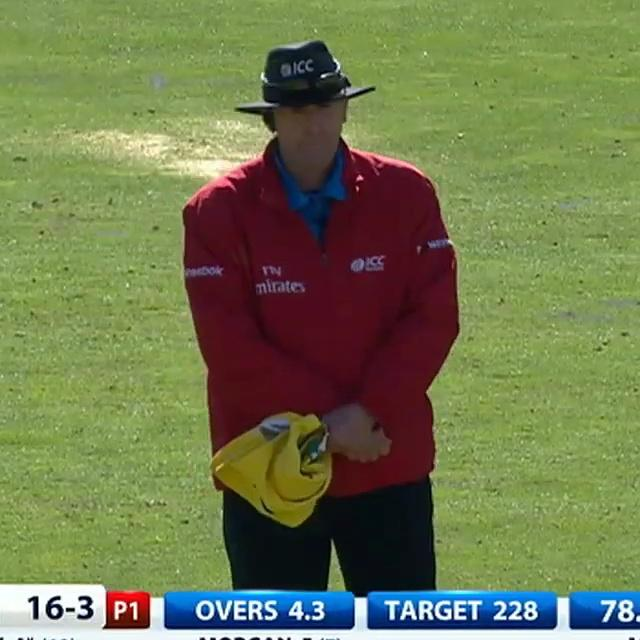umpire: (154, 18, 489, 597)
